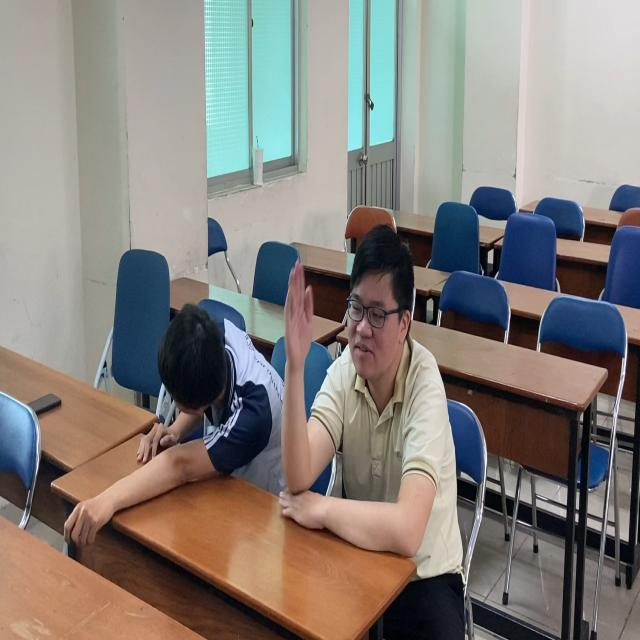raise_hand: (274, 209, 468, 573)
sleep: (57, 295, 283, 503)
